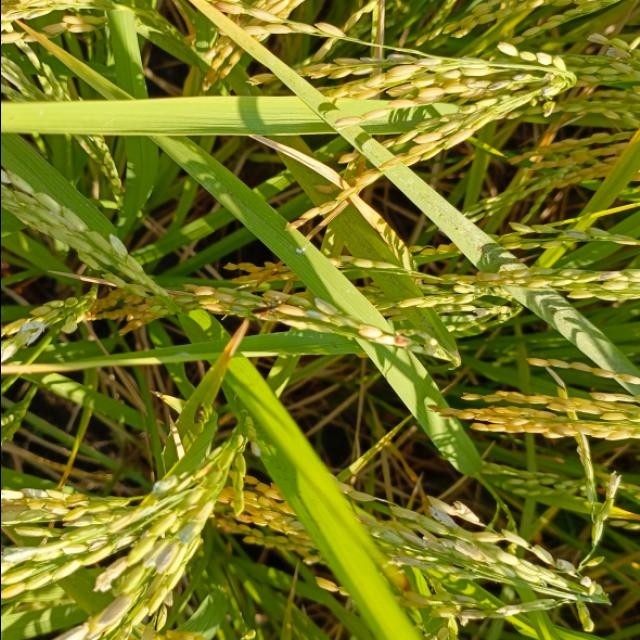Lalat: (190, 397, 207, 430)
